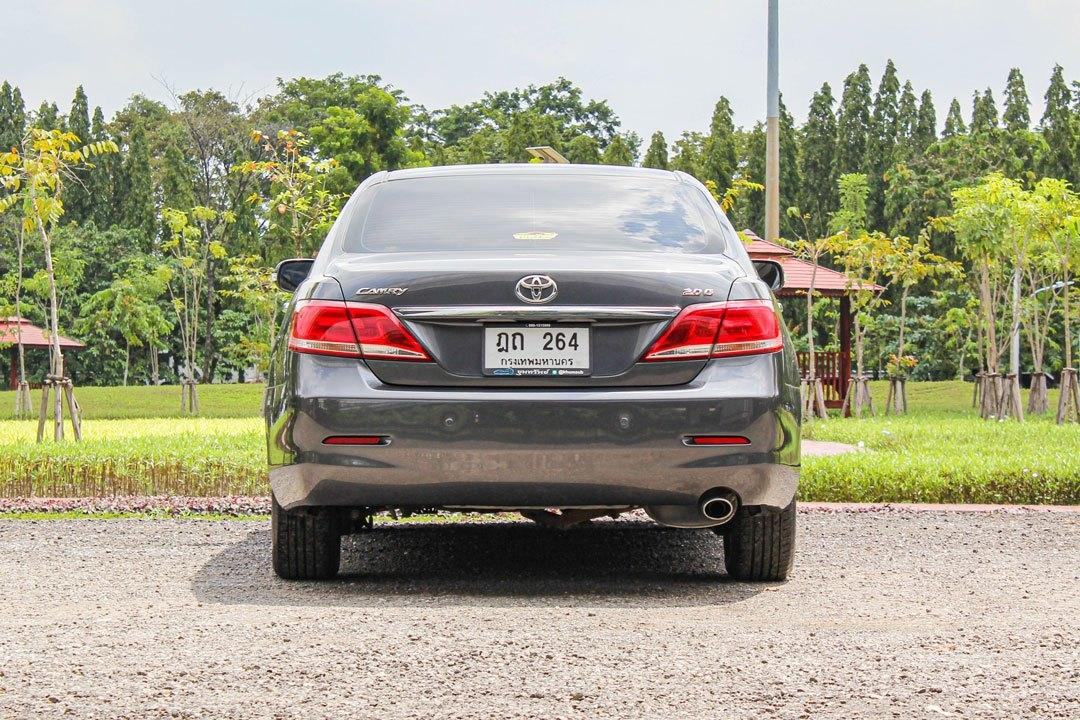license-plate: (472, 319, 600, 390)
